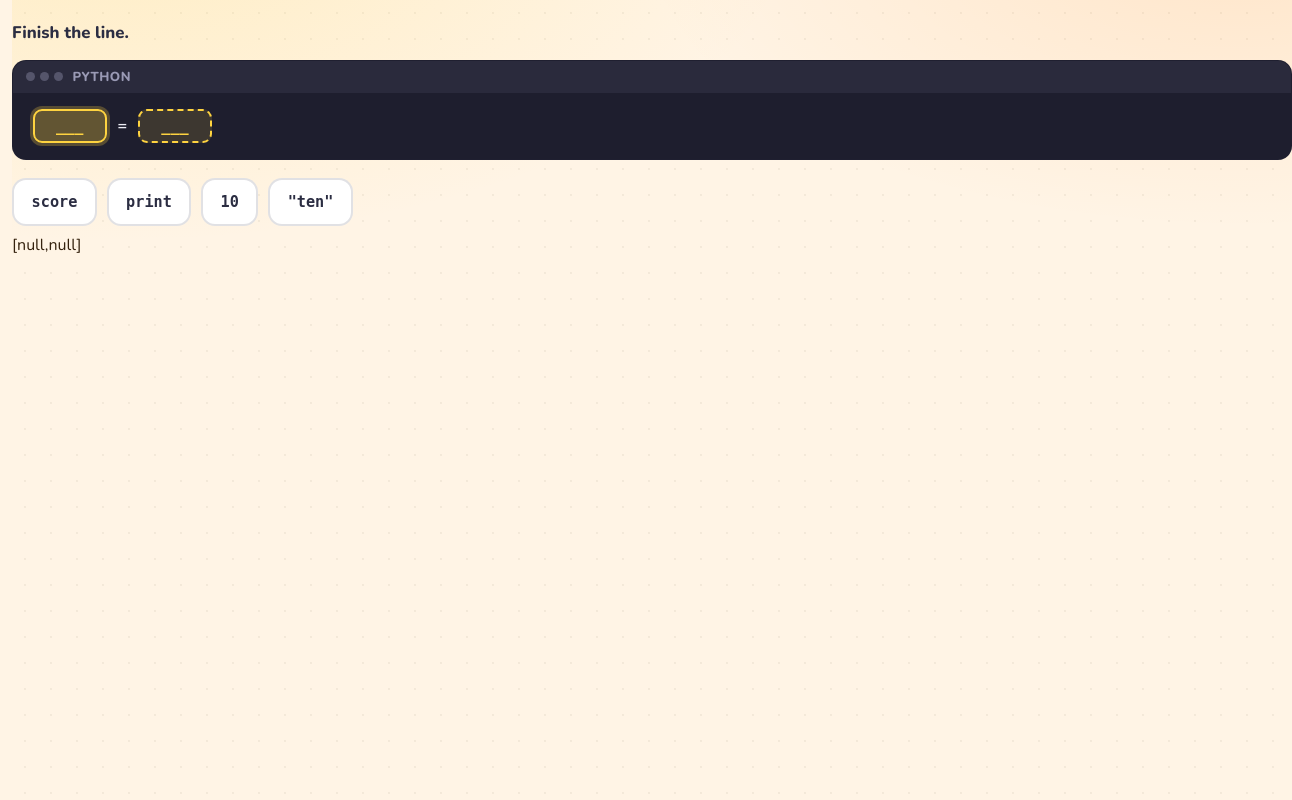
Test case: FillBlank › tapping a word fills the first gap, then the next
Click the button "score": (54,202) left=12, top=178, right=97, bottom=226
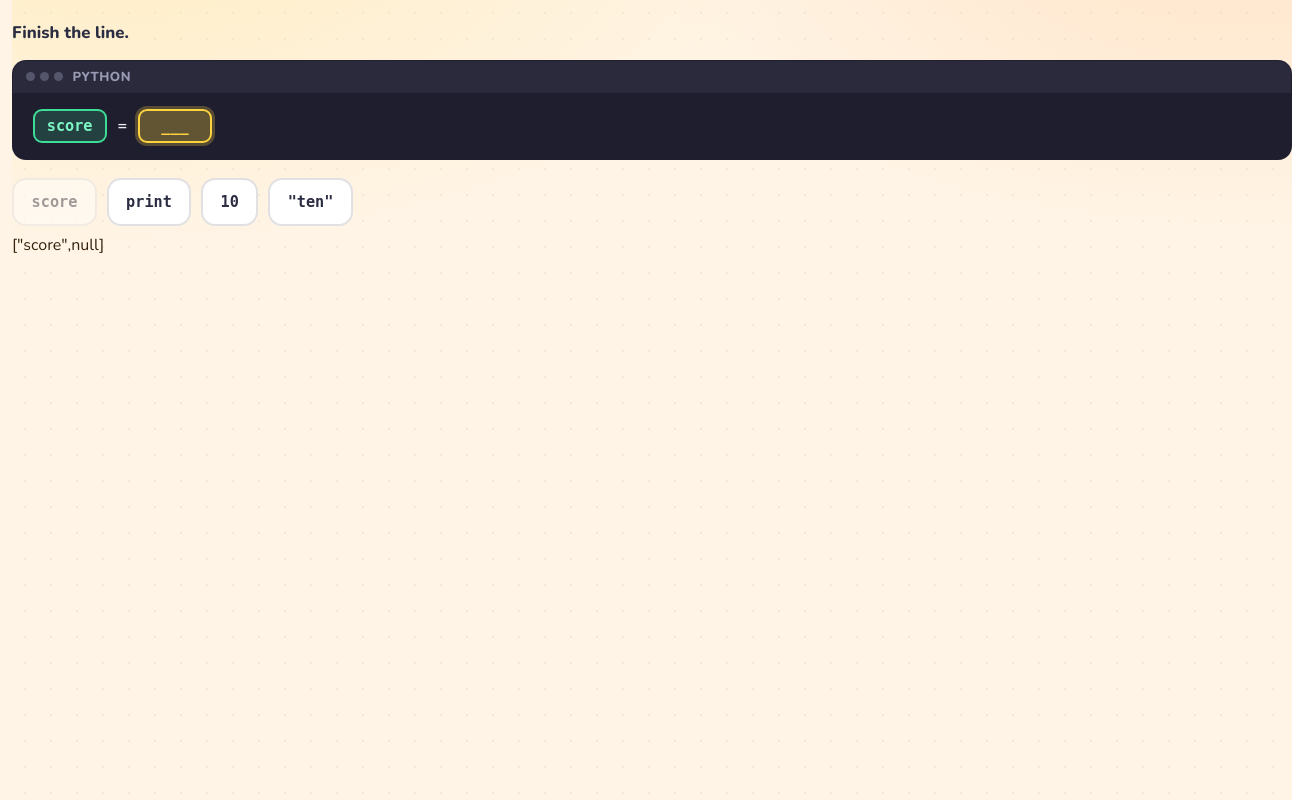
Now the text with test id "state" reads "[\"score\",null]", box left=12, top=234, right=104, bottom=256
Click the button "10": (230,202) left=201, top=178, right=258, bottom=226
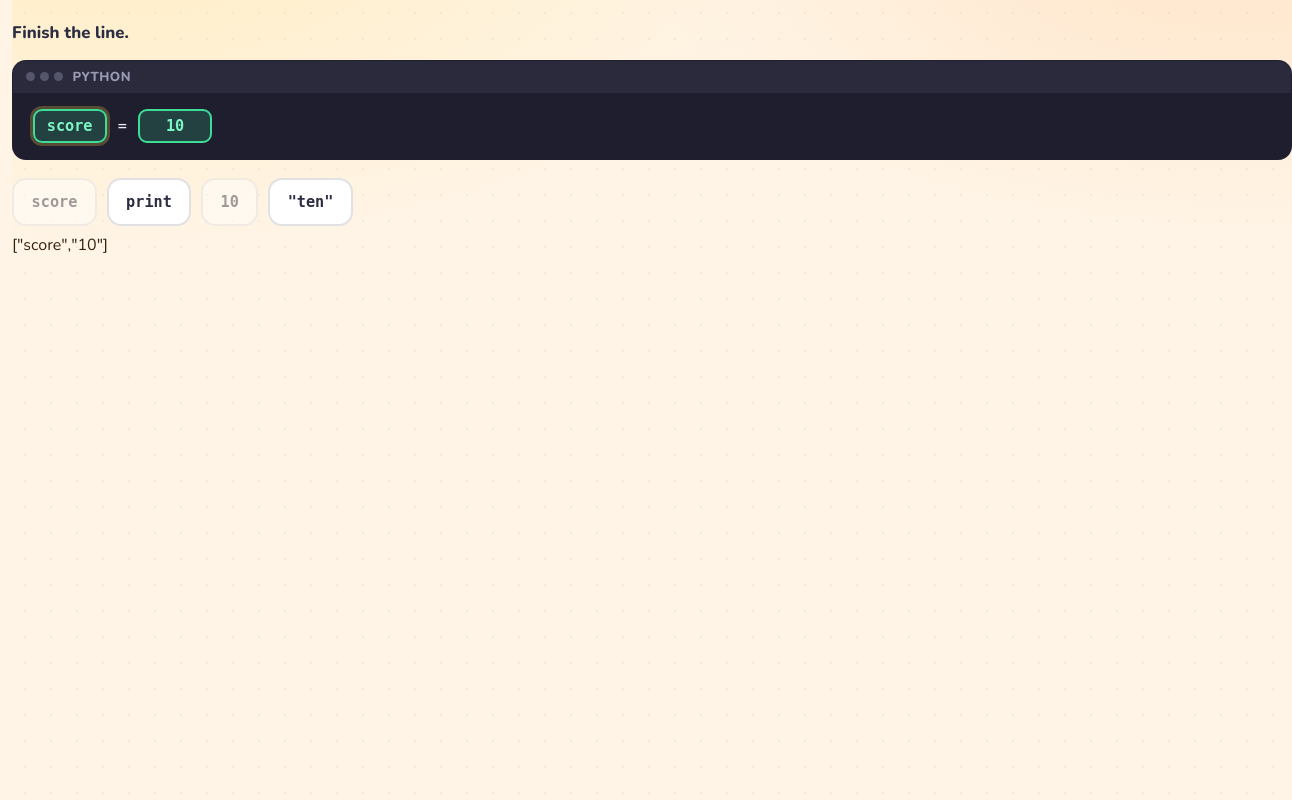
Now the text with test id "state" reads "[\"score\",\"10\"]", box left=12, top=234, right=108, bottom=256
